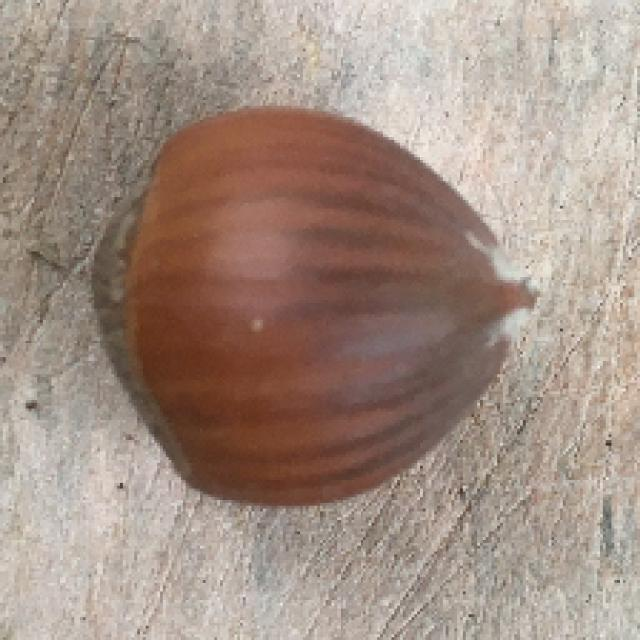qualityHazelnut: (79, 104, 548, 512)
